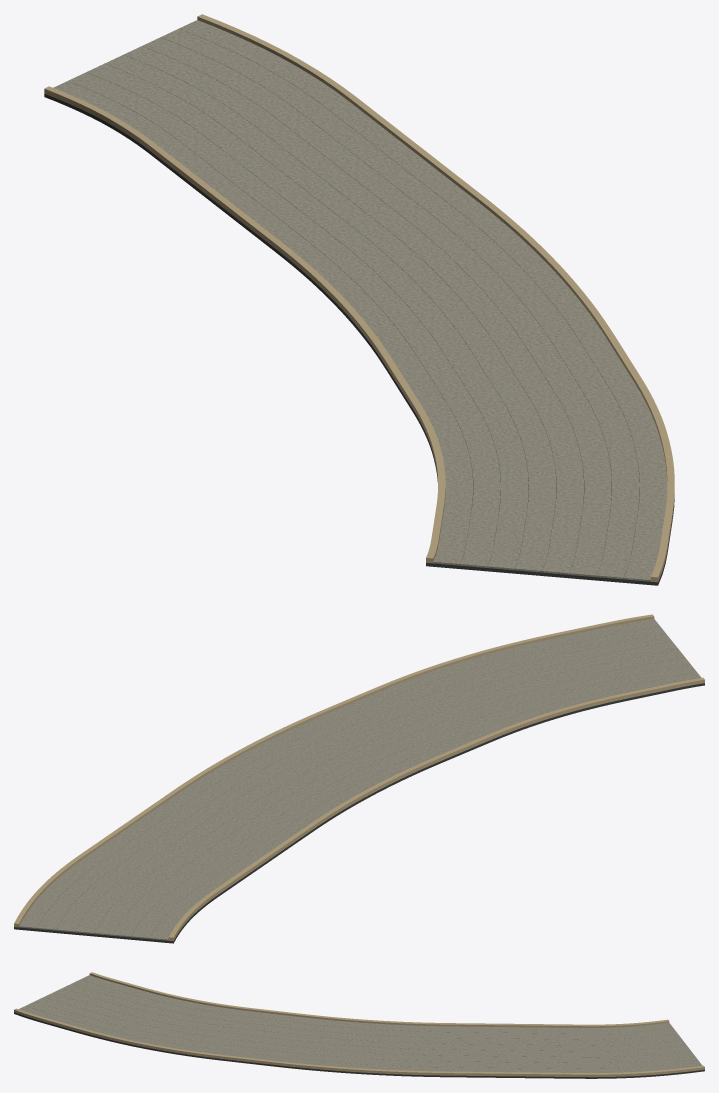
The model's file is track_main_09.fbx.
The picture shows the model from 3 angles, top to bottom: view 1: azimuth 30°, elevation 25°; view 2: azimuth 150°, elevation 25°; view 3: azimuth 270°, elevation 25°; orthographic projection. The views are drawn at different scales.
Visible parts, largest first — view 1: roman_concrete.001, travertine.001, basalt.001; view 2: roman_concrete.001, travertine.001, basalt.001; view 3: roman_concrete.001, travertine.001, basalt.001.
Part boxes in pixels (x1,y1,x2,y2): roman_concrete.001: (53, 20, 667, 581); travertine.001: (44, 14, 674, 582); basalt.001: (44, 94, 674, 585); roman_concrete.001: (19, 619, 701, 940); travertine.001: (14, 614, 704, 941); basalt.001: (14, 683, 704, 943); roman_concrete.001: (19, 975, 702, 1072); travertine.001: (14, 972, 704, 1077); basalt.001: (14, 1012, 704, 1078).
Bounding box in the file's own units: 209949 × 598006 × 4000.
